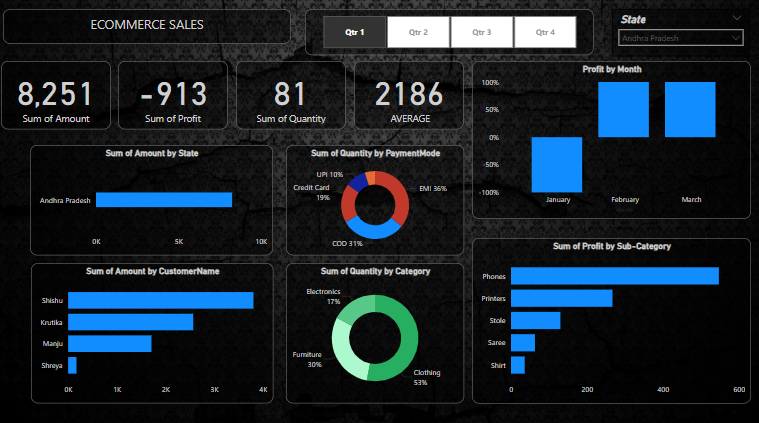

This screenshot's page, from the dashboard's own definition file:
{"tool":"powerbi","page":{"name":"Page 1","canvas":[1280,720],"ordinal":0},"visuals":[{"type":"textbox","box":[10,15,480,58.3],"z":0},{"type":"hundredPercentStackedColumnChart","title":" Profit by Month","fields":{"Y":["Details.Profit"],"Category":["Orders.Order Date.Variation.Date Hierarchy.Month"]},"box":[792.3,101.1,465,263],"z":1},{"type":"barChart","fields":{"Category":["Details.Sub-Category"],"Y":["Details.Profit"]},"box":[792.3,396.1,465,276],"z":2},{"type":"donutChart","fields":{"Category":["Details.Category"],"Y":["Details.Quantity"]},"box":[481.3,438.1,297,234],"z":3},{"type":"donutChart","fields":{"Y":["Details.Quantity"],"Category":["Details.PaymentMode"]},"box":[481.3,241.1,297,184],"z":4},{"type":"card","fields":{"Values":["Details.Amount"]},"box":[6.3,101.1,183,114],"z":5},{"type":"card","fields":{"Values":["Details.Profit"]},"box":[202.3,101.1,183,114],"z":6},{"type":"card","fields":{"Values":["Details.Quantity"]},"box":[398.3,101.1,183,114],"z":7},{"type":"card","fields":{"Values":["Details.AVE"]},"box":[595.3,101.1,183,114],"z":8},{"type":"barChart","fields":{"Category":["Orders.State"],"Y":["Details.Amount"]},"box":[55.3,241.1,405,184],"z":9},{"type":"barChart","fields":{"Category":["Orders.CustomerName"],"Y":["Details.Amount"]},"box":[57.1,438.6,404.3,234.3],"z":10},{"type":"slicer","fields":{"Values":["Orders.Order Date.Variation.Date Hierarchy.Quarter"]},"box":[512.9,15.7,481.4,77.1],"z":11},{"type":"slicer","title":"ALL","fields":{"Values":["Orders.State"]},"box":[1024.3,14.3,230,78.6],"z":12}]}

Visuals, with their boxes in screenshot pixels (x1, y1, x2, y2), scaled from the page's 1280x720 canvas onto the 759x423 screenshot:
textbox: <box>6,9,291,43</box>
" Profit by Month" hundredPercentStackedColumnChart: <box>470,59,746,214</box>
barChart - Details.Sub-Category x Details.Profit: <box>470,233,746,395</box>
donutChart - Details.Category x Details.Quantity: <box>285,257,462,395</box>
donutChart - Details.Quantity x Details.PaymentMode: <box>285,142,462,250</box>
card - Details.Amount: <box>4,59,112,126</box>
card - Details.Profit: <box>120,59,228,126</box>
card - Details.Quantity: <box>236,59,345,126</box>
card - Details.AVE: <box>353,59,462,126</box>
barChart - Orders.State x Details.Amount: <box>33,142,273,250</box>
barChart - Orders.CustomerName x Details.Amount: <box>34,258,274,395</box>
slicer - Orders.Order Date.Variation.Date Hierarchy.Quarter: <box>304,9,590,55</box>
"ALL" slicer: <box>607,8,744,55</box>
